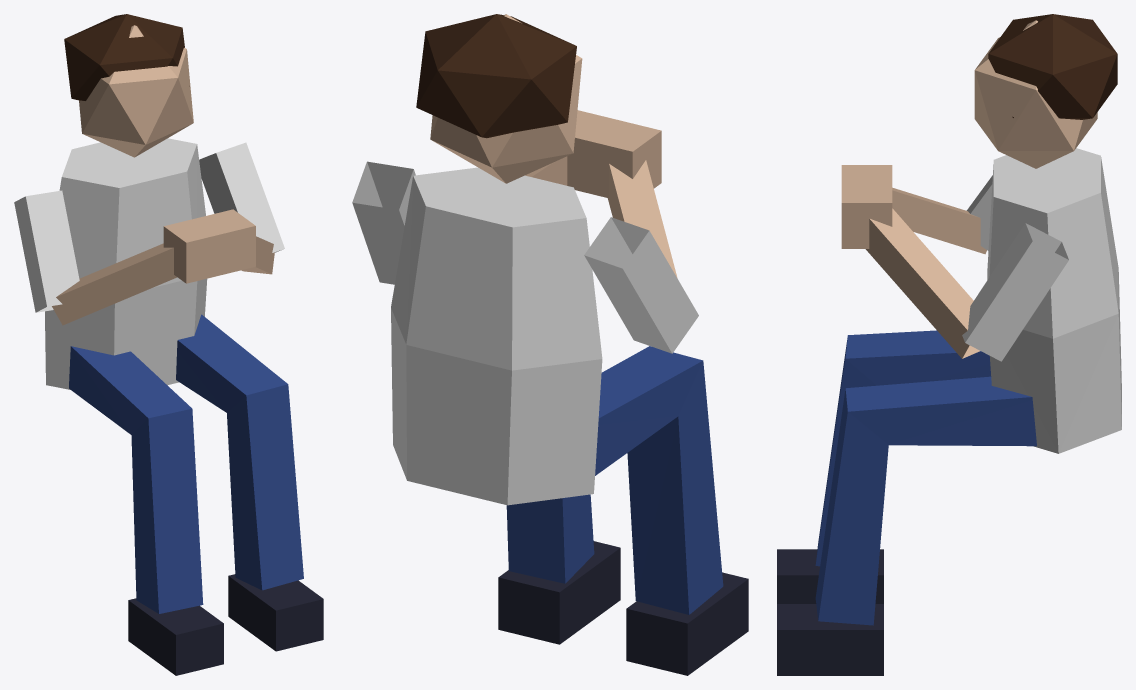
The model's file is fan-1.glb.
3 views of the same model, side by side, from view 1: azimuth 30°, elevation 25°; view 2: azimuth 150°, elevation 25°; view 3: azimuth 270°, elevation 25° (orthographic). The views are drawn at different scales.
Visible parts, largest first — view 1: fan-1; view 2: fan-1; view 3: fan-1.
Part boxes in pixels (<box>): fan-1: <box>14,14,323,675</box>; fan-1: <box>352,14,748,675</box>; fan-1: <box>777,14,1121,675</box>.
Size of the model in its own units: 0.5475 by 1.22 by 0.6125.
